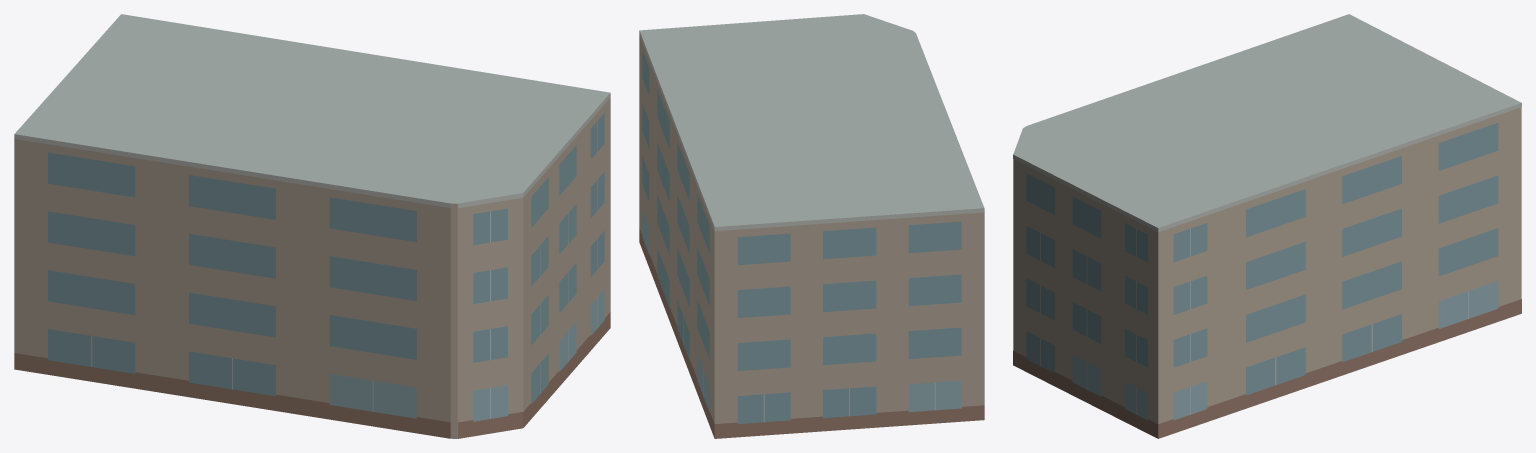
The model's file is survey-upis-32774493.glb.
The picture shows the model from 3 angles, left to right: view 1: azimuth 30°, elevation 25°; view 2: azimuth 150°, elevation 25°; view 3: azimuth 270°, elevation 25°; orthographic projection. The views are drawn at different scales.
Parts seen in each view (by area): view 1: survey-upis-32774493.tmp; view 2: survey-upis-32774493.tmp; view 3: survey-upis-32774493.tmp.
Part boxes in pixels (x1=…): survey-upis-32774493.tmp: x1=14, y1=14, x2=610, y2=438; survey-upis-32774493.tmp: x1=639, y1=14, x2=984, y2=438; survey-upis-32774493.tmp: x1=1013, y1=14, x2=1521, y2=438.
Bounding box in the file's own units: 26.58 × 12.2 × 26.69.
